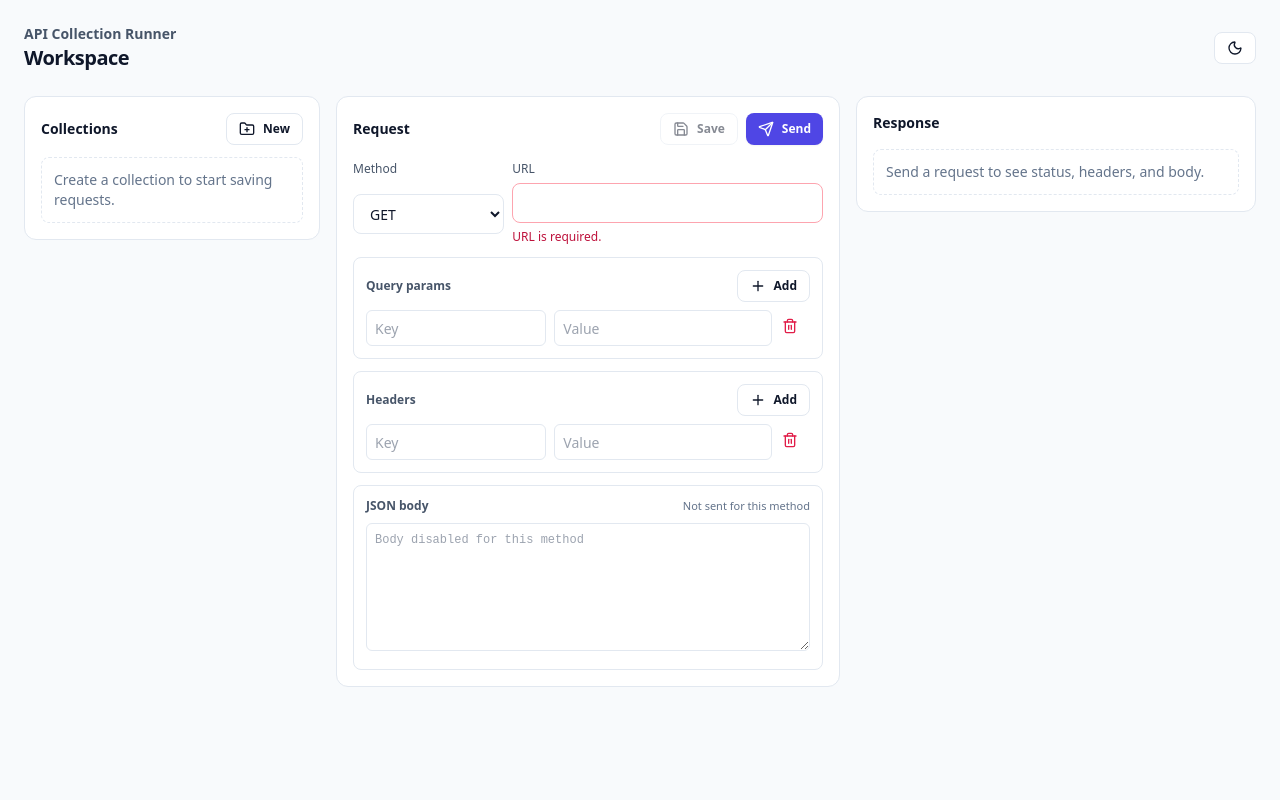
Test: API Collection Runner › saves a request into a collection
Click the button "New".
click(265, 129)  # box left=226, top=113, right=303, bottom=145
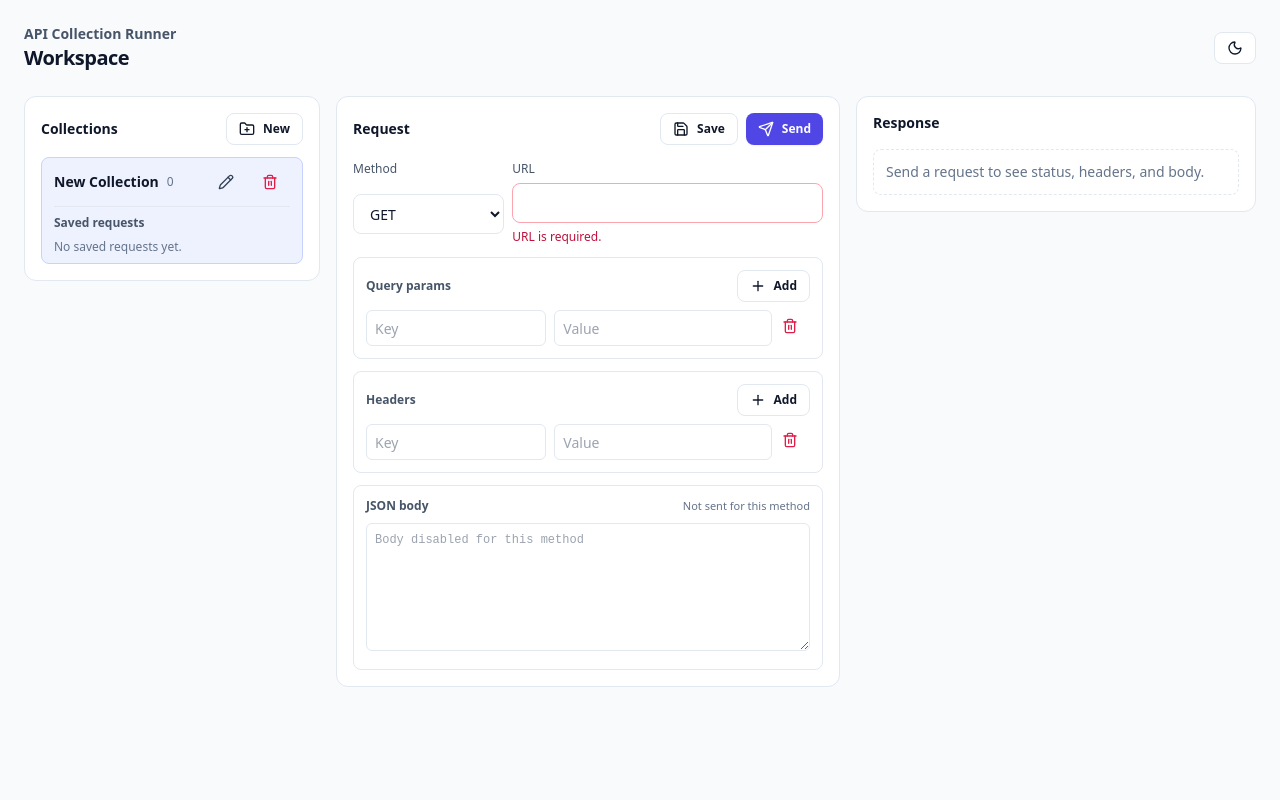
Click the button "Save".
click(699, 129)  # box left=660, top=113, right=738, bottom=145
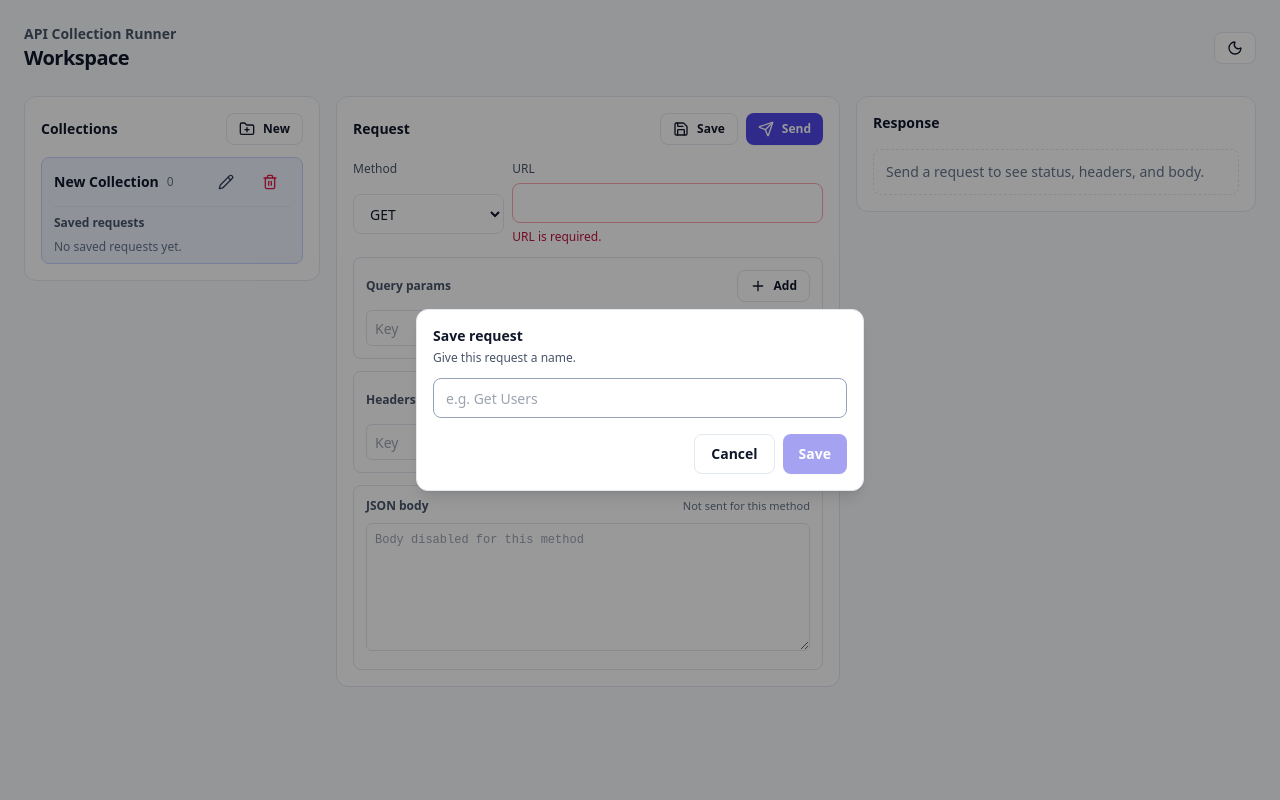
Type "Get Users" into the field with placeholder "e.g. Get Users".
click(640, 398); type("Get Users")  # box left=433, top=378, right=847, bottom=418
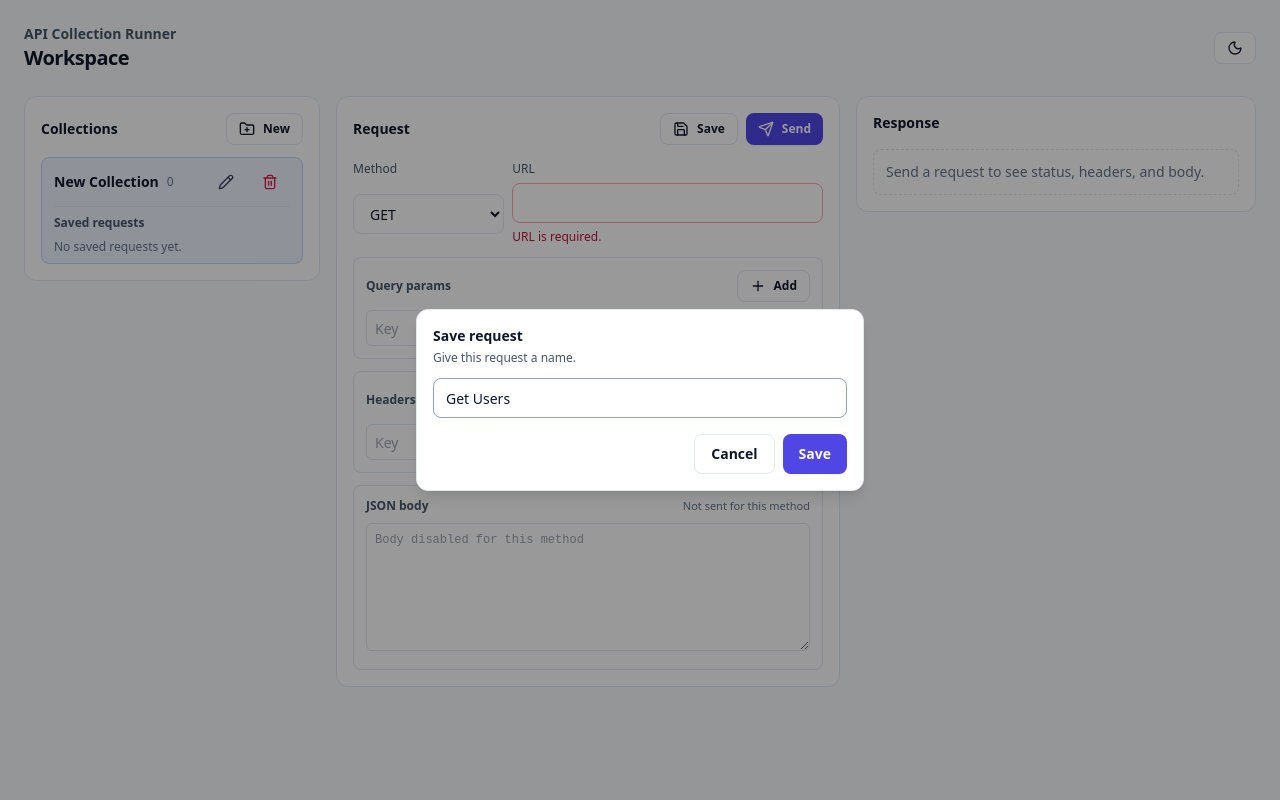
Click the button "Save".
click(815, 454)  # box left=783, top=434, right=847, bottom=474
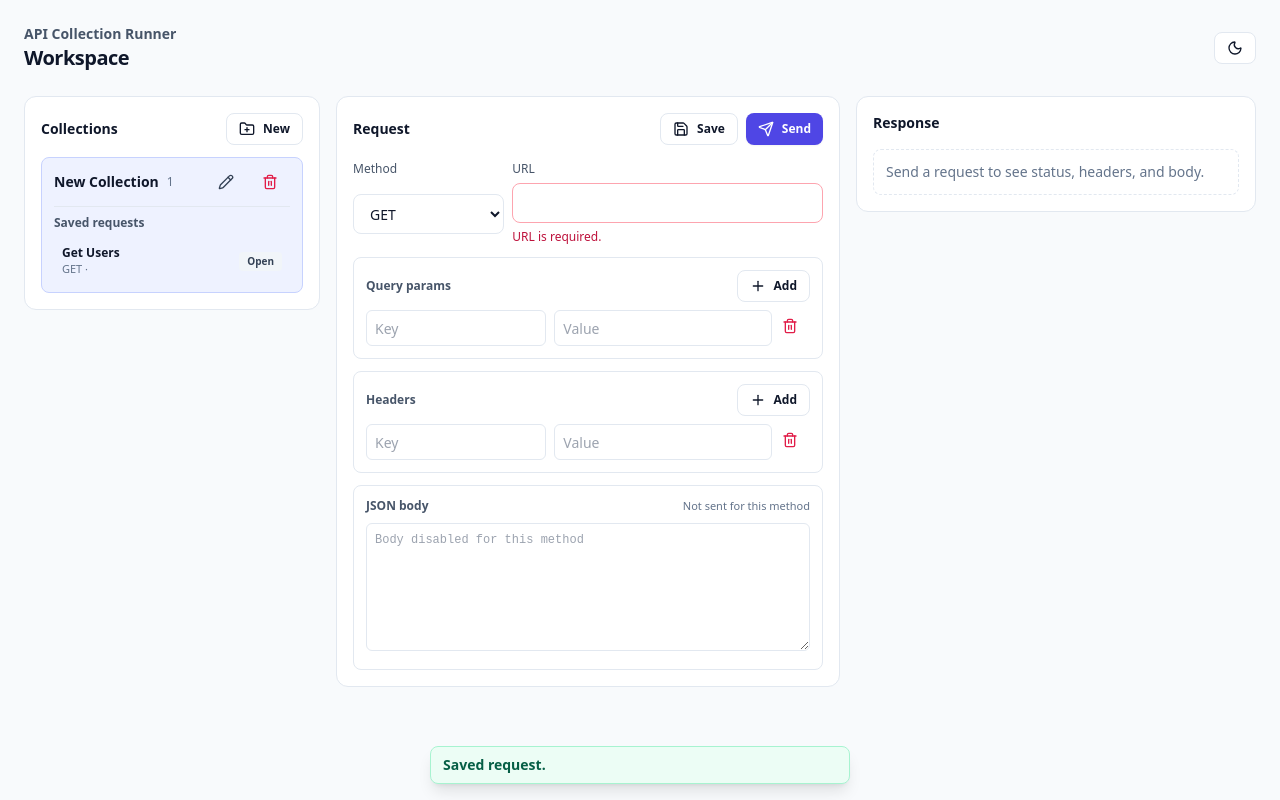
Result: the text "Saved request." is shown at left=430, top=746, right=850, bottom=784
Result: the text "Get Users" is shown at left=62, top=244, right=120, bottom=261
